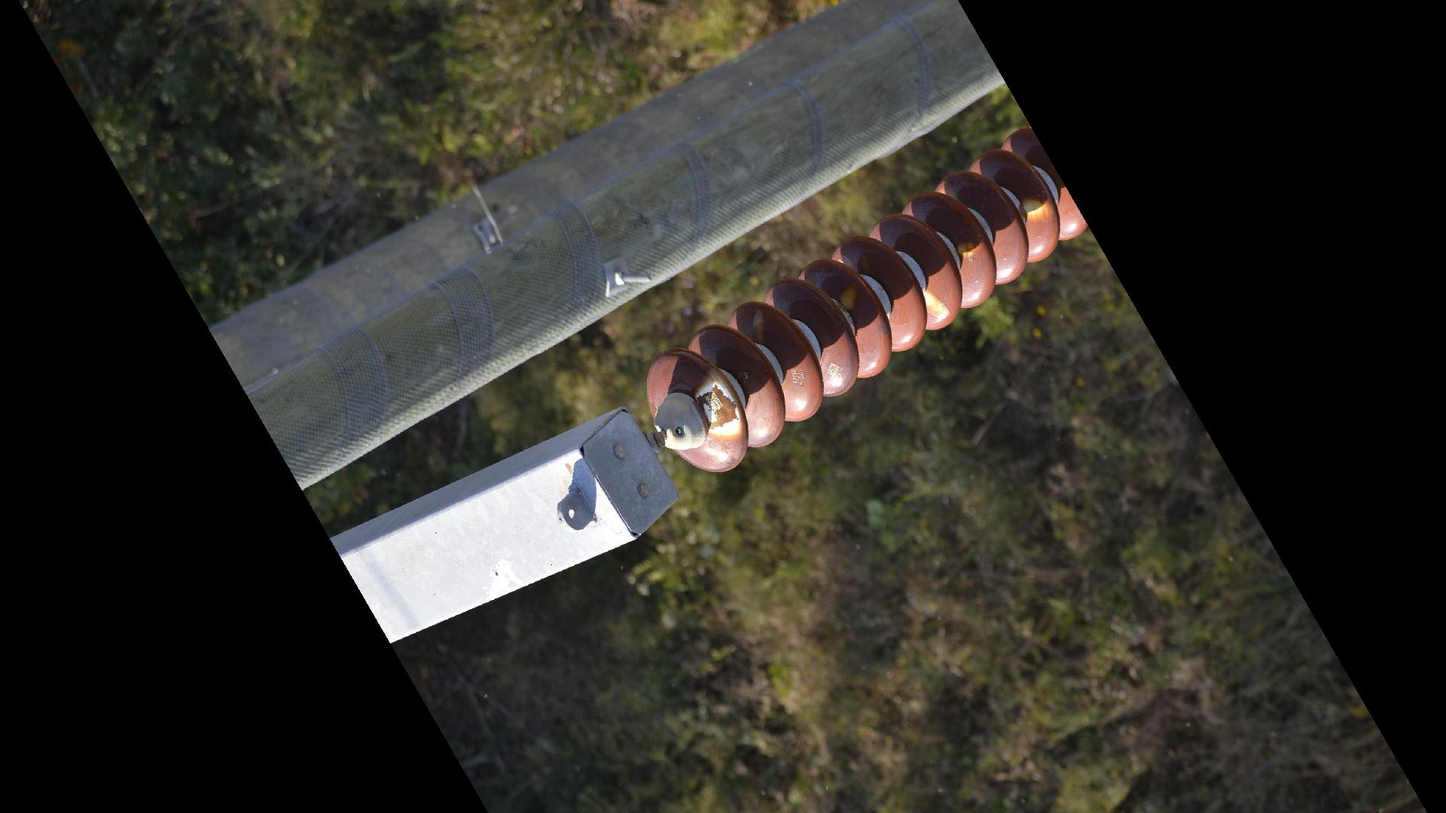insulator: (641, 123, 1091, 477)
insulator_flashover: (695, 377, 742, 437), (1017, 196, 1056, 225), (920, 289, 950, 322), (954, 237, 984, 261), (750, 308, 768, 346), (837, 284, 859, 312)
